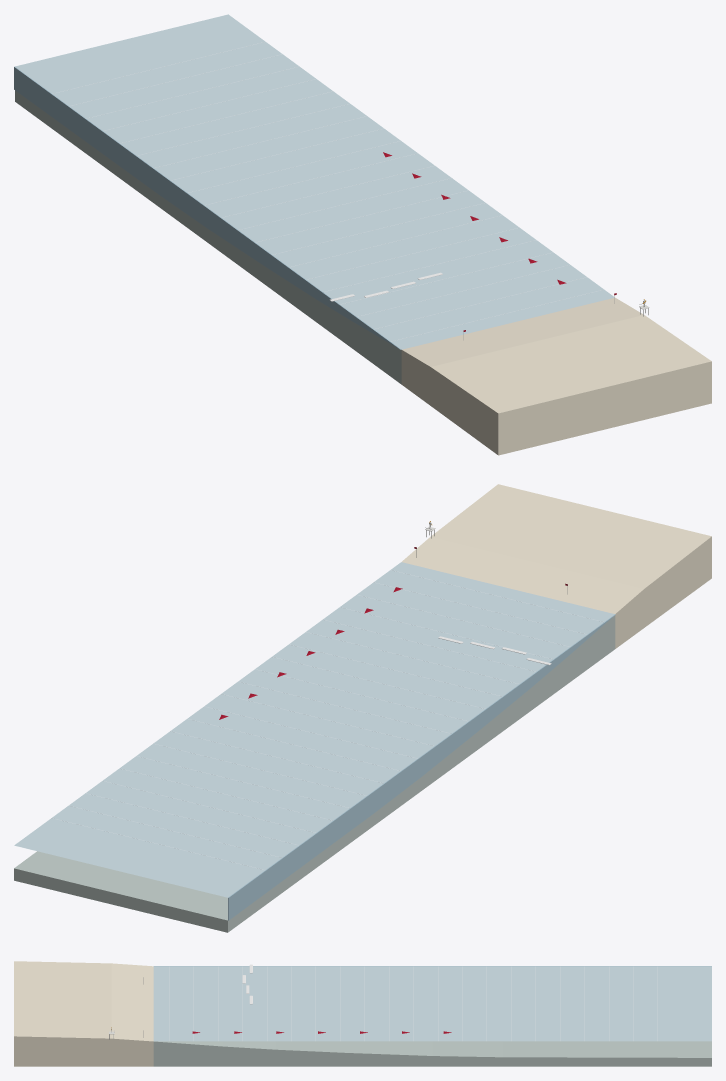
The model's file is drowning.glb.
3 views of the same model, one above another, from view 1: azimuth 30°, elevation 25°; view 2: azimuth 150°, elevation 25°; view 3: azimuth 270°, elevation 25° (orthographic). The views are drawn at different scales.
Visible parts, largest first — view 1: sea_surface, beach, sea_back, seabed; view 2: sea_surface, beach, seabed, sea_back; view 3: sea_surface, beach, seabed, sea_back.
Part boxes in pixels (x1,y1,x2,y2): sea_surface: (15,14,614,349); beach: (401,297,711,455); sea_back: (14,66,401,349); seabed: (15,90,401,384); sea_surface: (14,562,614,897); beach: (402,484,711,648); seabed: (14,615,615,932); sea_back: (228,614,615,920); sea_surface: (153,966,711,1041); beach: (14,961,153,1066); seabed: (153,1041,711,1066); sea_back: (154,966,711,966).
Bounding box in the file's own units: 52.6 × 12.47 × 200.
